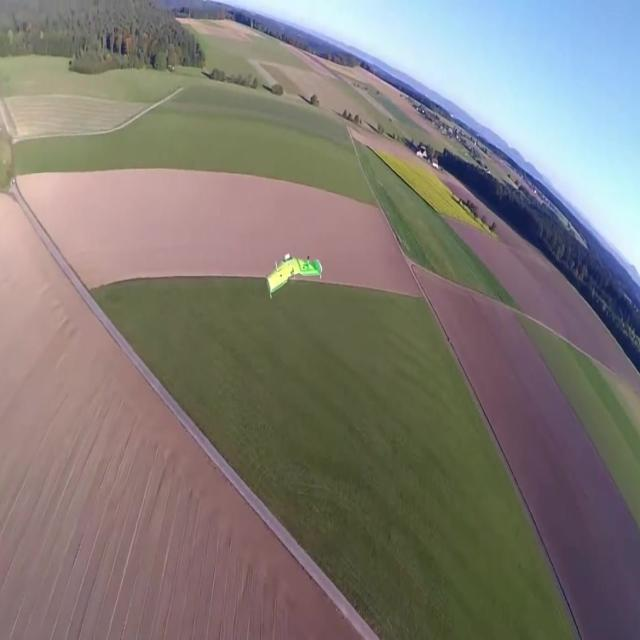iha: (266, 252, 323, 301)
